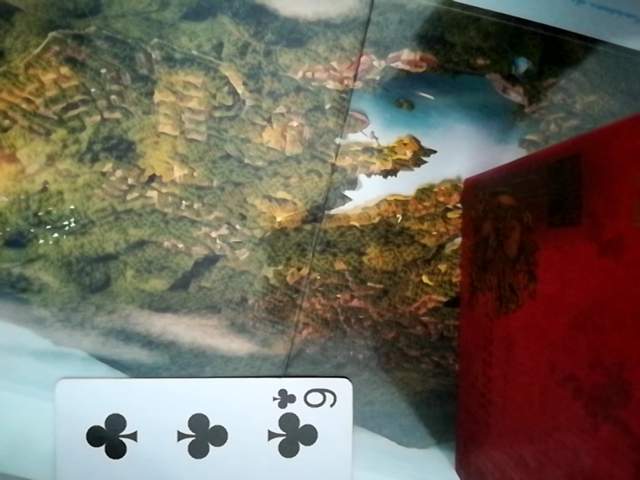mh 6: (37, 371, 366, 479)
